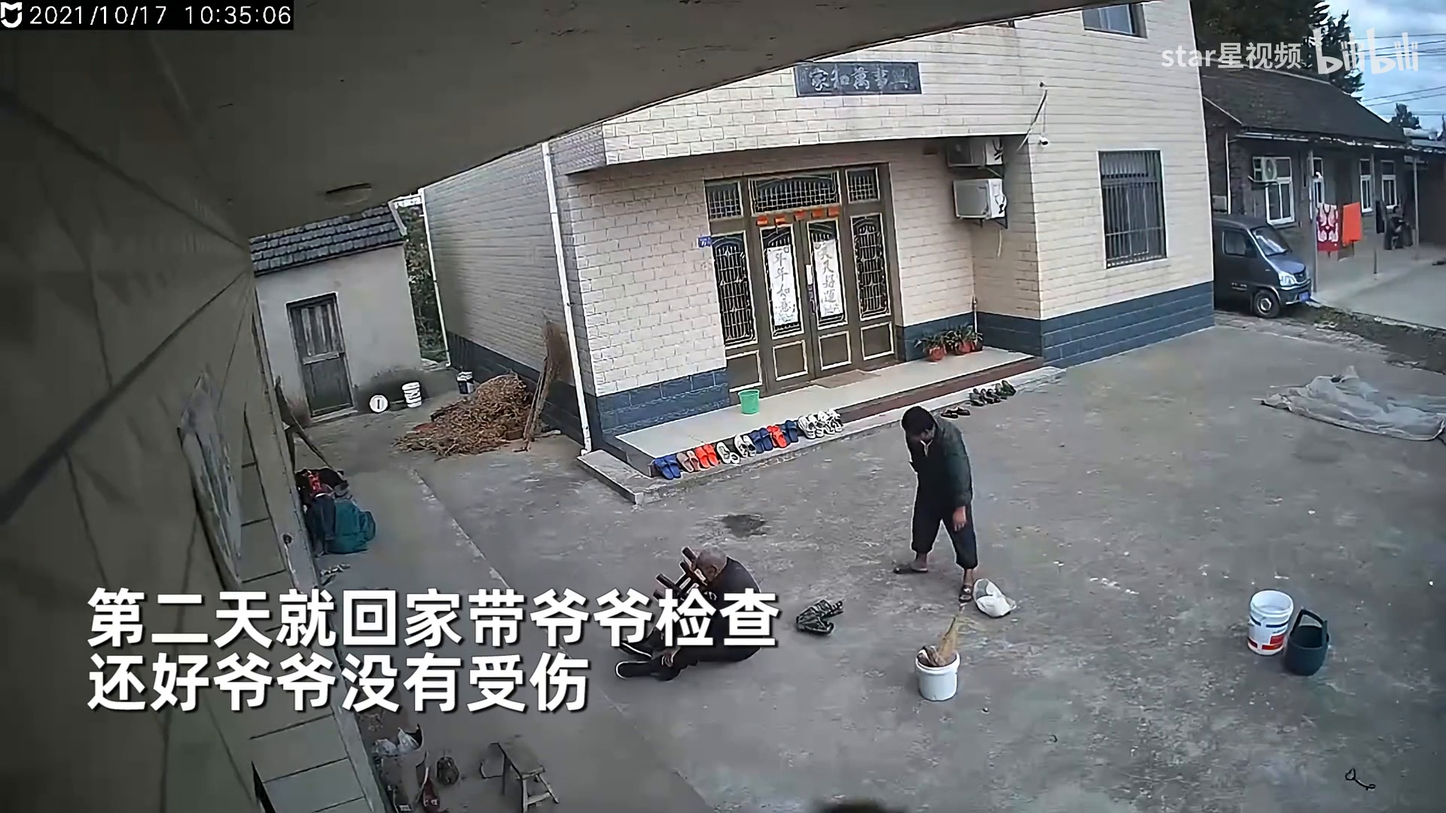half_up: (612, 550, 770, 674)
stand: (892, 403, 980, 604)
